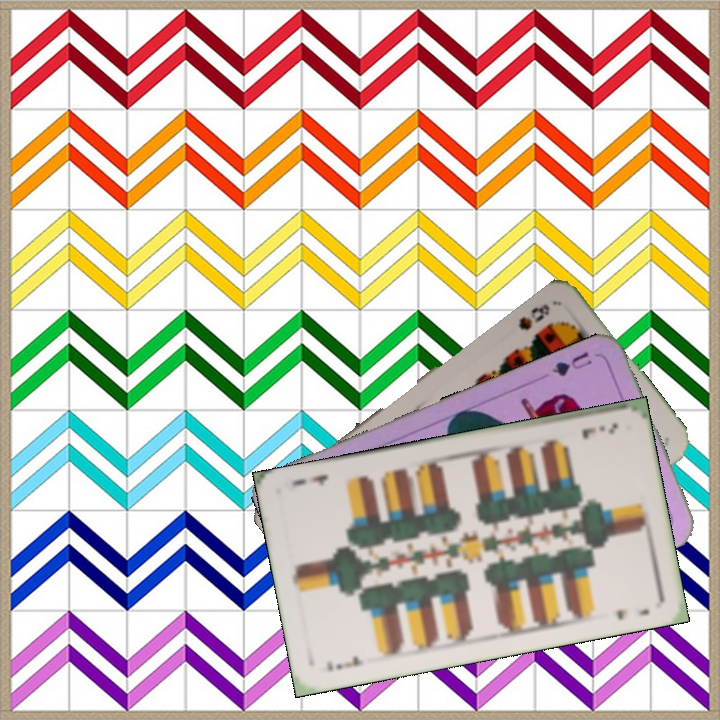E7: (577, 418, 621, 442), (323, 651, 367, 673)
GU: (547, 347, 595, 379)
S8: (514, 299, 553, 333)
